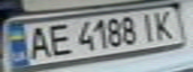1: (90, 17, 109, 50)
4: (72, 18, 96, 52)
8: (118, 12, 142, 46), (106, 16, 127, 47)
A: (21, 24, 54, 61)
E: (42, 21, 75, 56)
I: (136, 10, 160, 42)
K: (148, 8, 178, 41)
